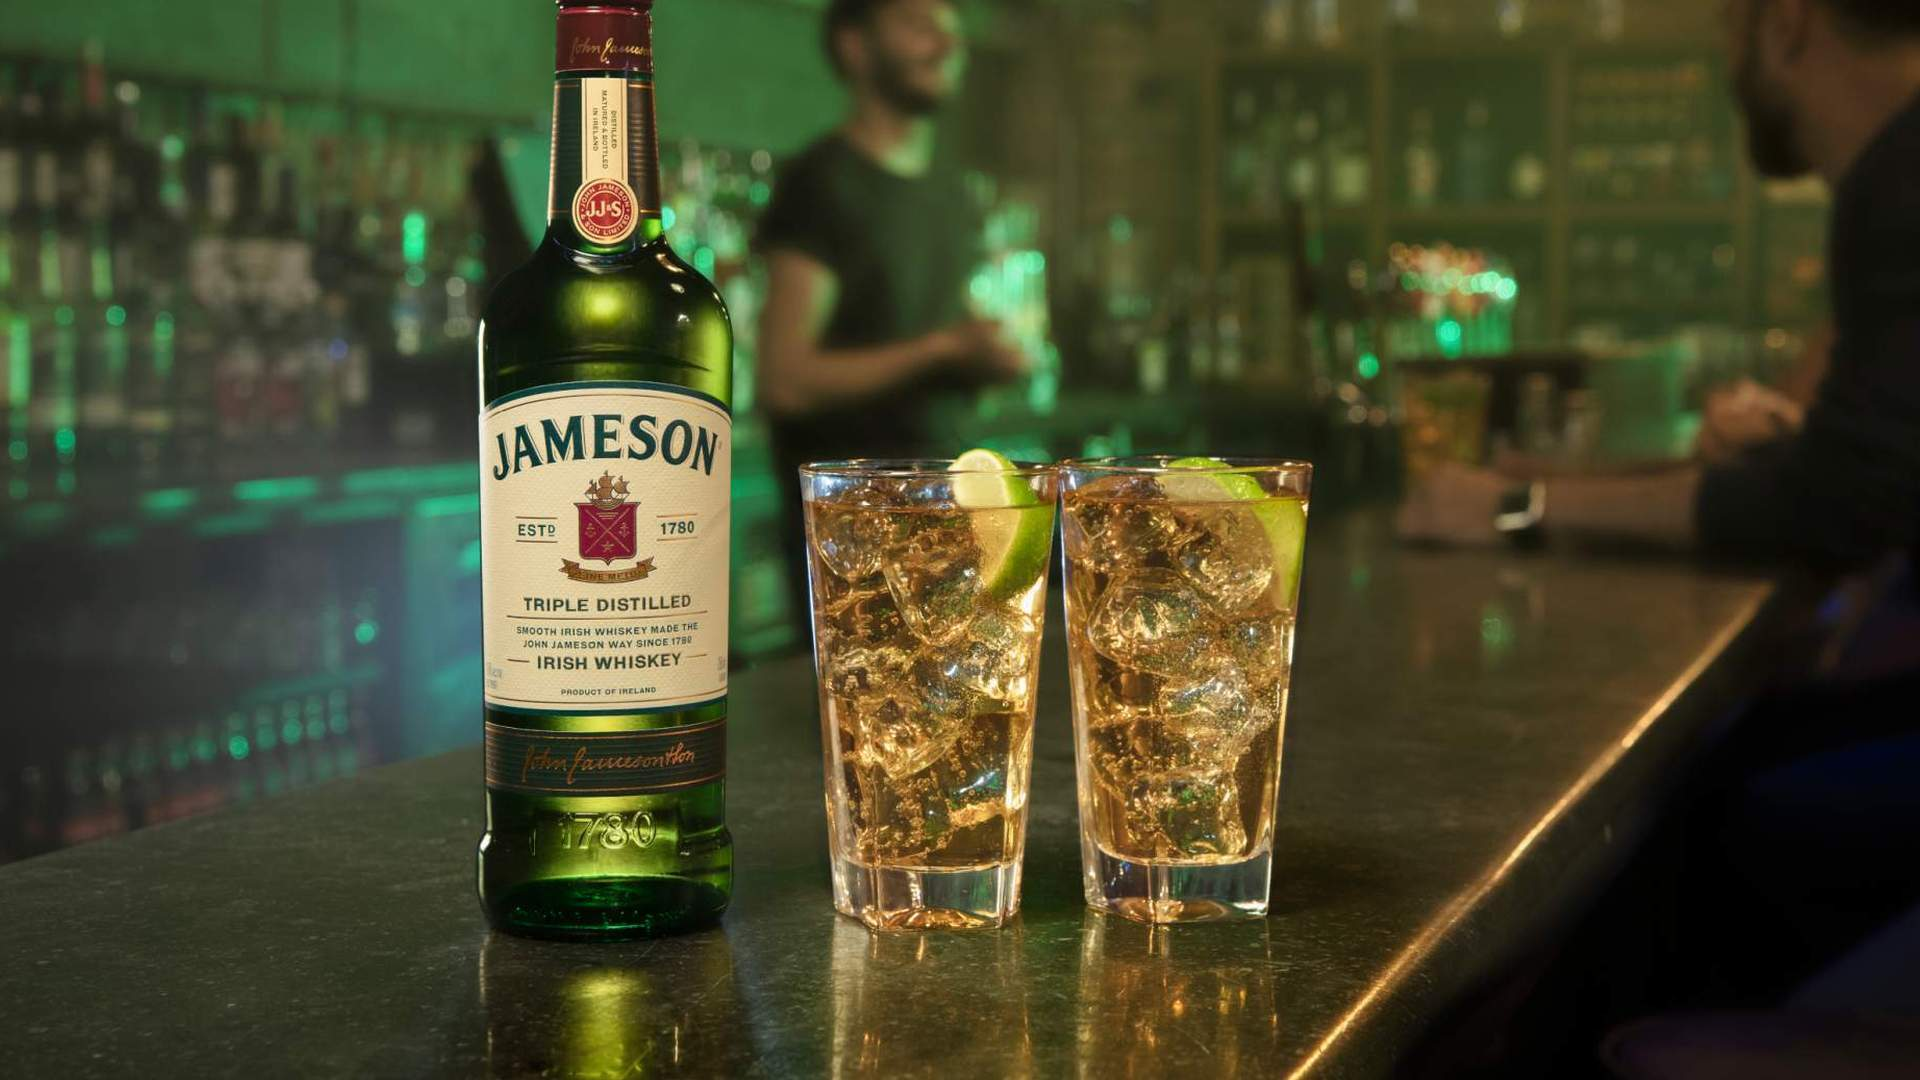Jameson: (462, 3, 740, 948)
